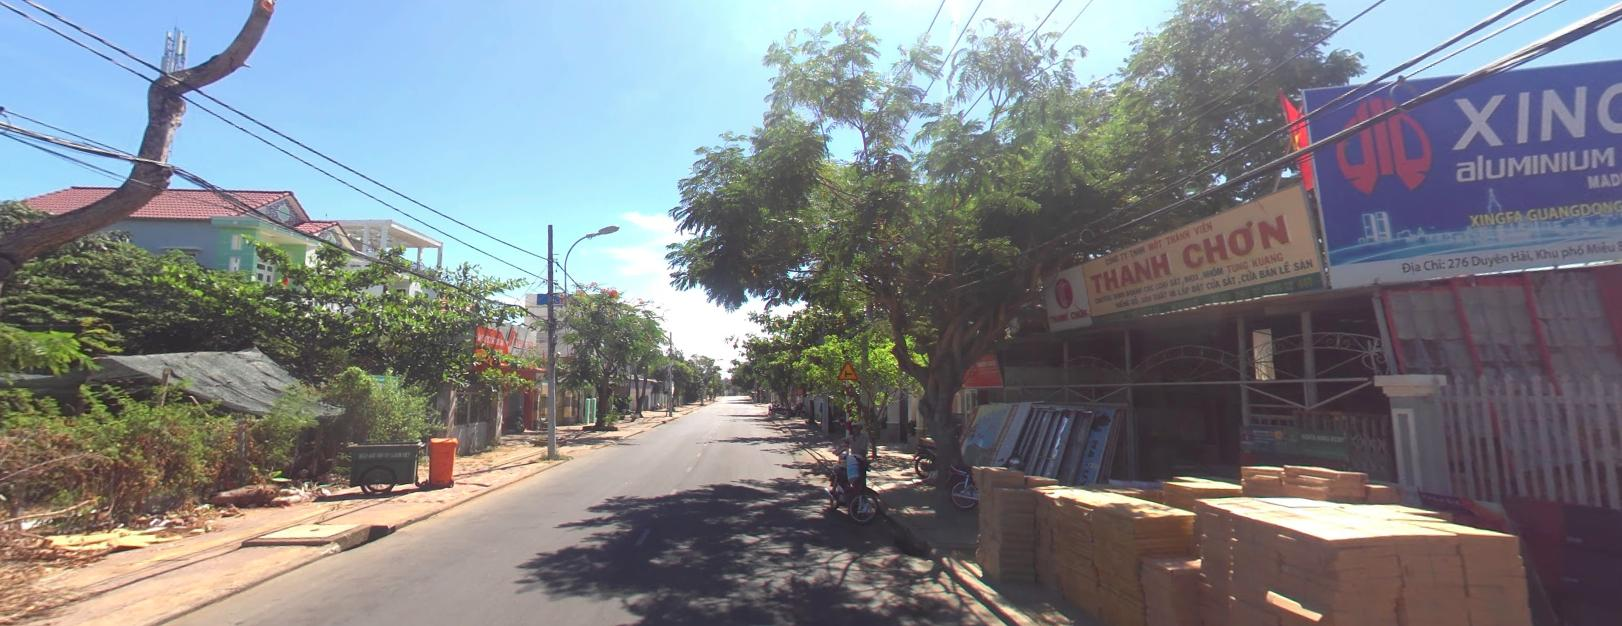Nguy hiem: (837, 360, 858, 378)
